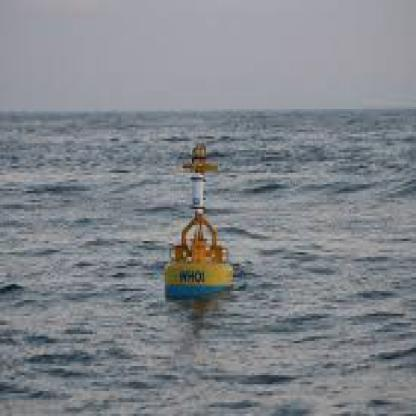buoy: (158, 136, 244, 307)
